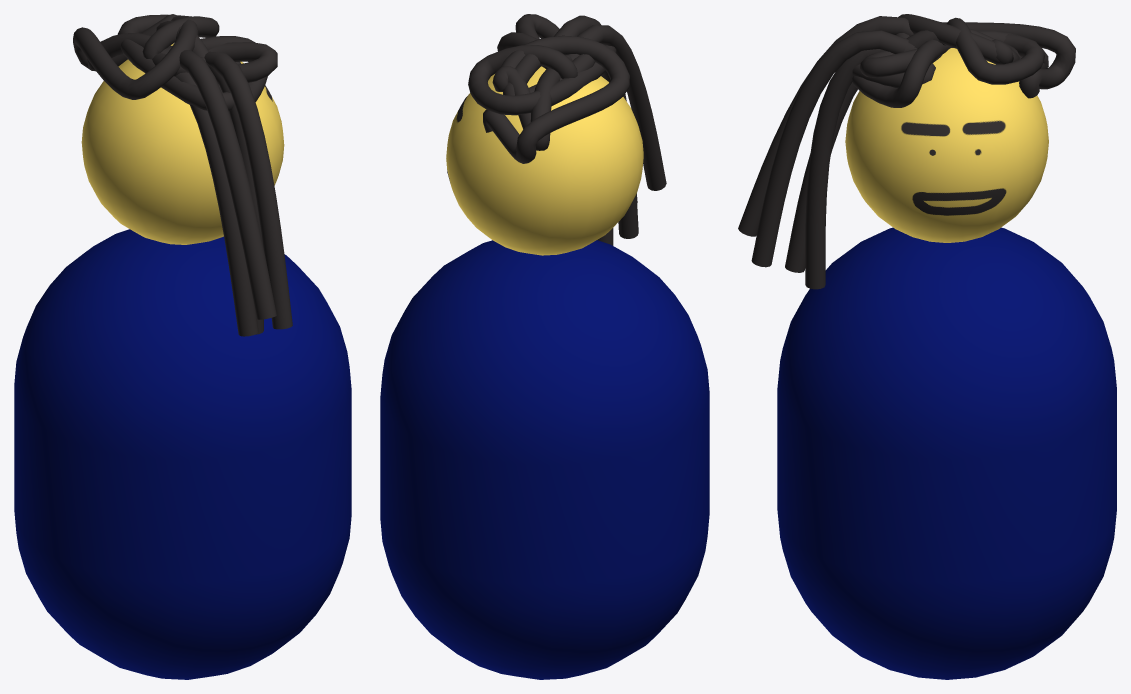
File: cam_people_7.glb
3 views of the same model, side by side, from view 1: azimuth 30°, elevation 25°; view 2: azimuth 150°, elevation 25°; view 3: azimuth 270°, elevation 25° (orthographic). The views are drawn at different scales.
Parts seen in each view (by area): view 1: Roundcube, Roundcube.006, BézierCurve, BézierCurve.003, BézierCurve.002, BézierCurve.004, BézierCurve.001; view 2: Roundcube, Roundcube.006, BézierCurve, BézierCurve.003, BézierCurve.004, BézierCurve.002; view 3: Roundcube, Roundcube.006, BézierCurve, BézierCurve.002, BézierCurve.001, BézierCurve.003, BézierCurve.004.
Part boxes in pixels (x1,y1,x2,y2): Roundcube: [14, 229, 351, 679]; Roundcube.006: [81, 43, 284, 244]; BézierCurve: [73, 14, 277, 111]; BézierCurve.003: [179, 50, 276, 319]; BézierCurve.002: [204, 51, 292, 329]; BézierCurve.004: [175, 72, 258, 336]; BézierCurve.001: [206, 62, 263, 334]; Roundcube: [380, 240, 709, 679]; Roundcube.006: [446, 66, 643, 255]; BézierCurve: [468, 14, 629, 163]; BézierCurve.003: [568, 25, 666, 190]; BézierCurve.004: [601, 71, 638, 238]; BézierCurve.002: [554, 15, 637, 202]; Roundcube: [777, 227, 1116, 679]; Roundcube.006: [845, 48, 1048, 242]; BézierCurve: [852, 14, 1075, 107]; BézierCurve.002: [751, 30, 908, 267]; BézierCurve.001: [805, 42, 914, 289]; BézierCurve.003: [738, 16, 913, 236]; BézierCurve.004: [785, 82, 857, 272].
Size of the model in its own units: 1 by 2.09 by 1.12.
7 materials, 1 textured.
